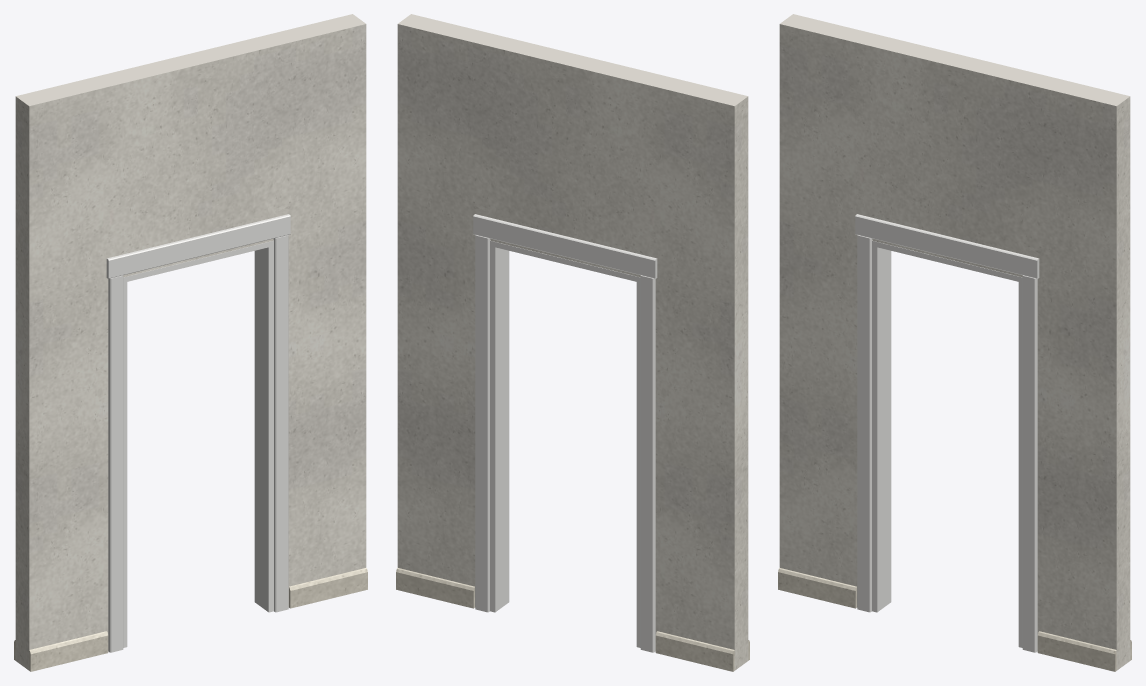
File: iw1_doorway.glb
The picture shows the model from 3 angles, left to right: view 1: azimuth 30°, elevation 25°; view 2: azimuth 150°, elevation 25°; view 3: azimuth 330°, elevation 25°; orthographic projection.
Parts seen in each view (by area): view 1: iw1_doorway_plaster, iw1_doorway_frame, iw1_doorway_trim; view 2: iw1_doorway_plaster, iw1_doorway_frame, iw1_doorway_trim; view 3: iw1_doorway_plaster, iw1_doorway_frame, iw1_doorway_trim.
Part boxes in pixels (left/top/right/bottom): iw1_doorway_plaster: left=15, top=14, right=366, bottom=670; iw1_doorway_frame: left=106, top=214, right=290, bottom=652; iw1_doorway_trim: left=14, top=568, right=367, bottom=671; iw1_doorway_plaster: left=397, top=14, right=748, bottom=670; iw1_doorway_frame: left=473, top=214, right=657, bottom=652; iw1_doorway_trim: left=396, top=568, right=749, bottom=671; iw1_doorway_plaster: left=779, top=14, right=1130, bottom=670; iw1_doorway_frame: left=855, top=214, right=1039, bottom=652; iw1_doorway_trim: left=778, top=568, right=1131, bottom=671.
Size of the model in its own units: 2 by 3.2 by 0.18.
3 materials, 2 textured.
